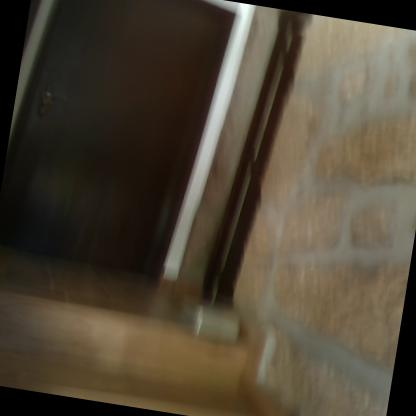closed: (0, 0, 258, 308)
